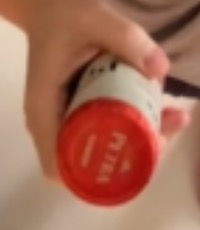petra: (53, 46, 170, 212)
